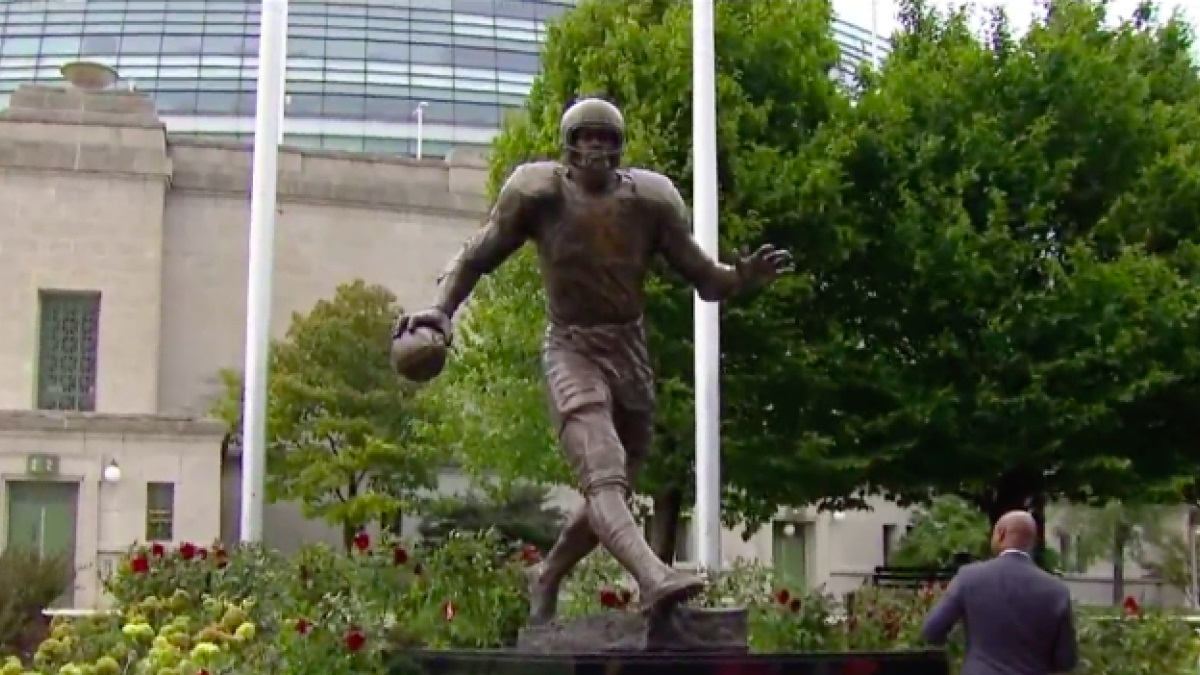person: (905, 497, 1088, 675)
person-like: (388, 89, 799, 624)
